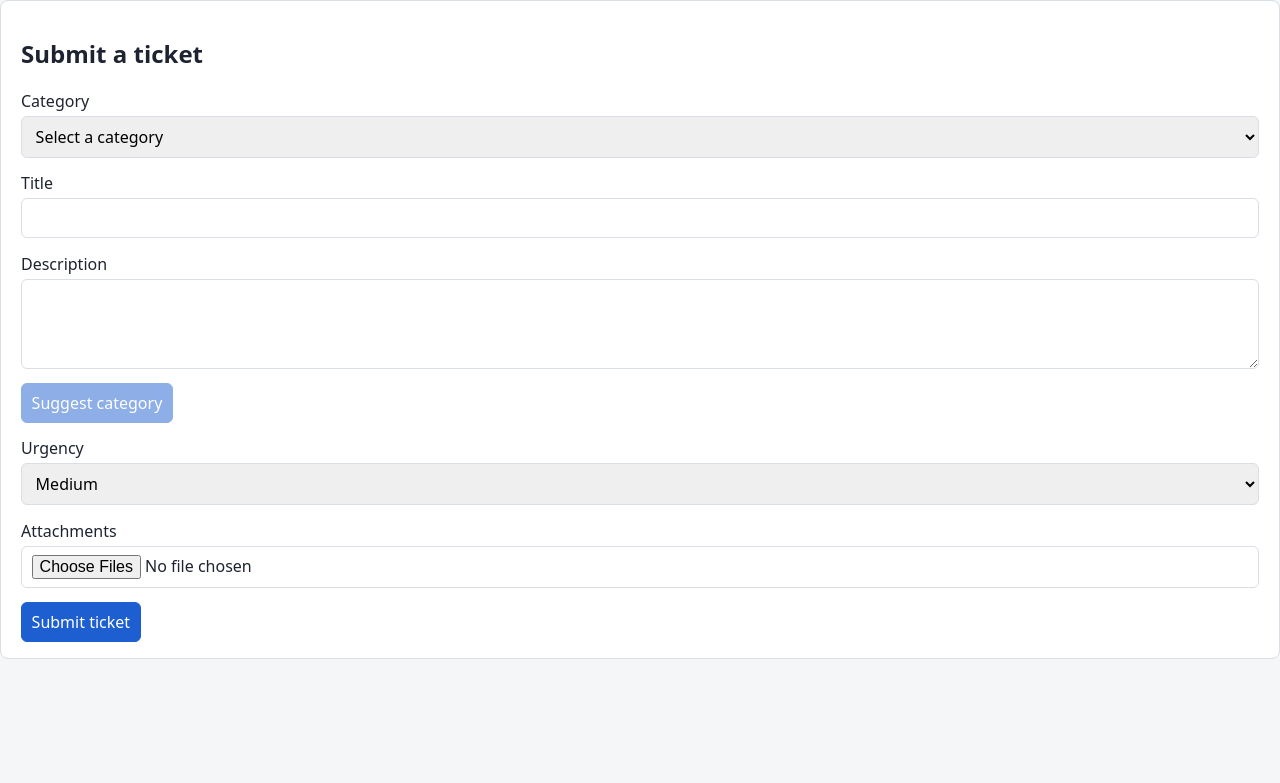
it: ticket form assistance › fills category, request type and urgency from the AI suggestion
Expected: the button "Suggest category" is disabled, [21, 383, 173, 423]
In the field labelled "Title": (640, 218) [21, 198, 1259, 238], type "Need share"
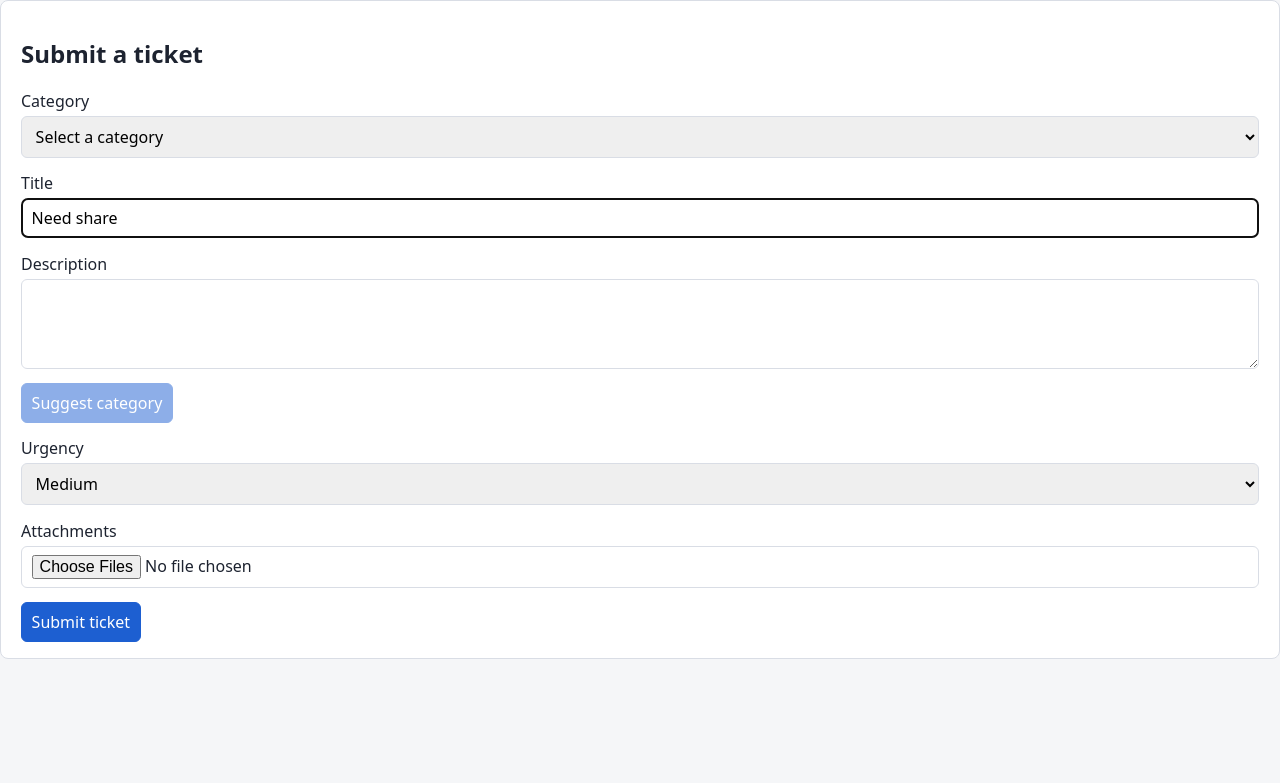
In the text box labelled "Description": (640, 324) [21, 279, 1259, 369], type "Finance drive"
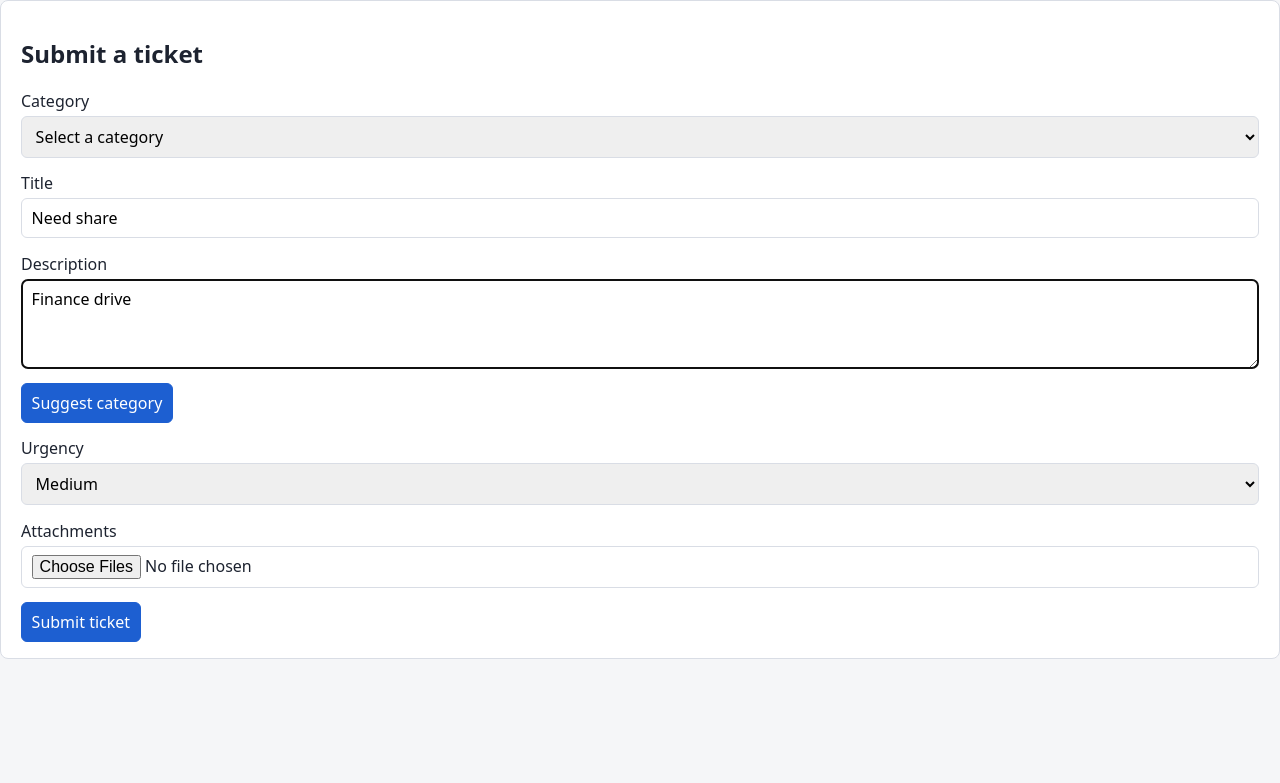
Click the button "Suggest category": click(97, 403) [21, 383, 173, 423]
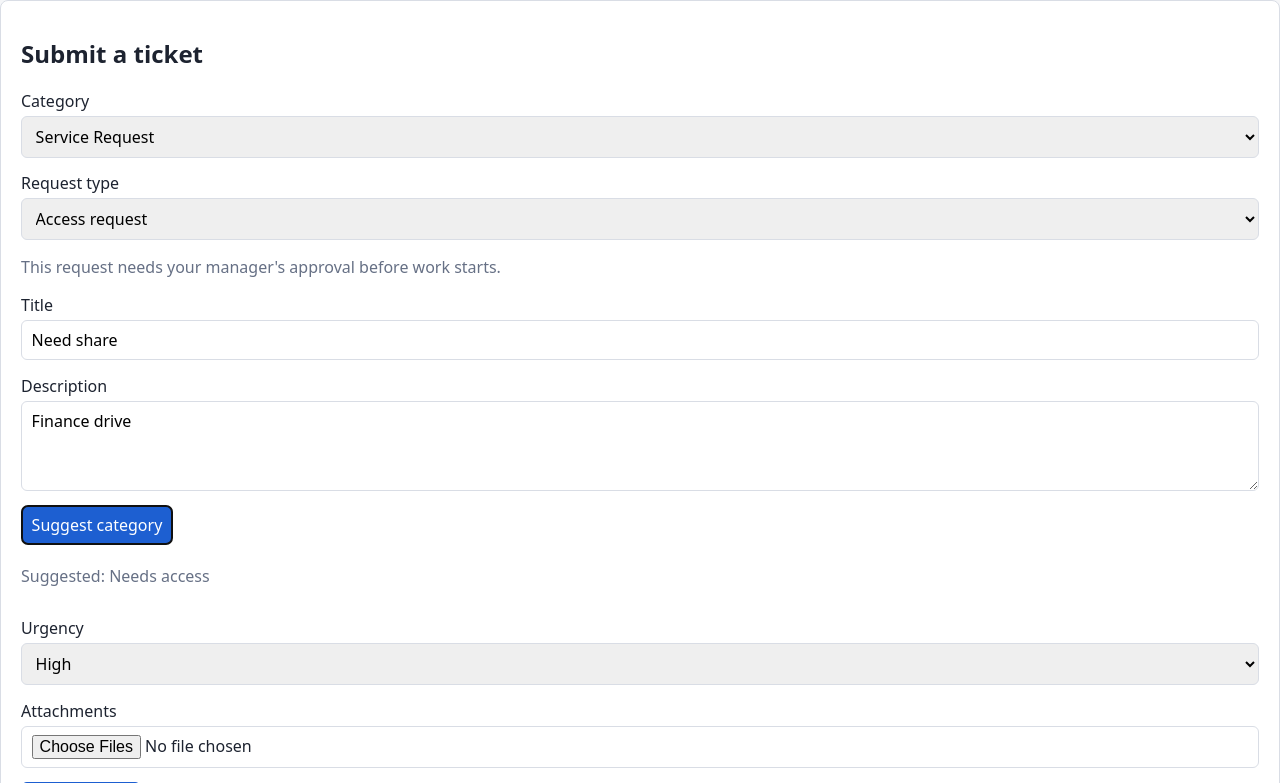
Result: the text "Suggested: Needs access" is shown at [21, 565, 210, 587]
Result: the dropdown labelled "Request type" shows "Access request" at [21, 198, 1259, 240]
Result: the dropdown labelled "Category" shows "Service Request" at [21, 116, 1259, 158]
